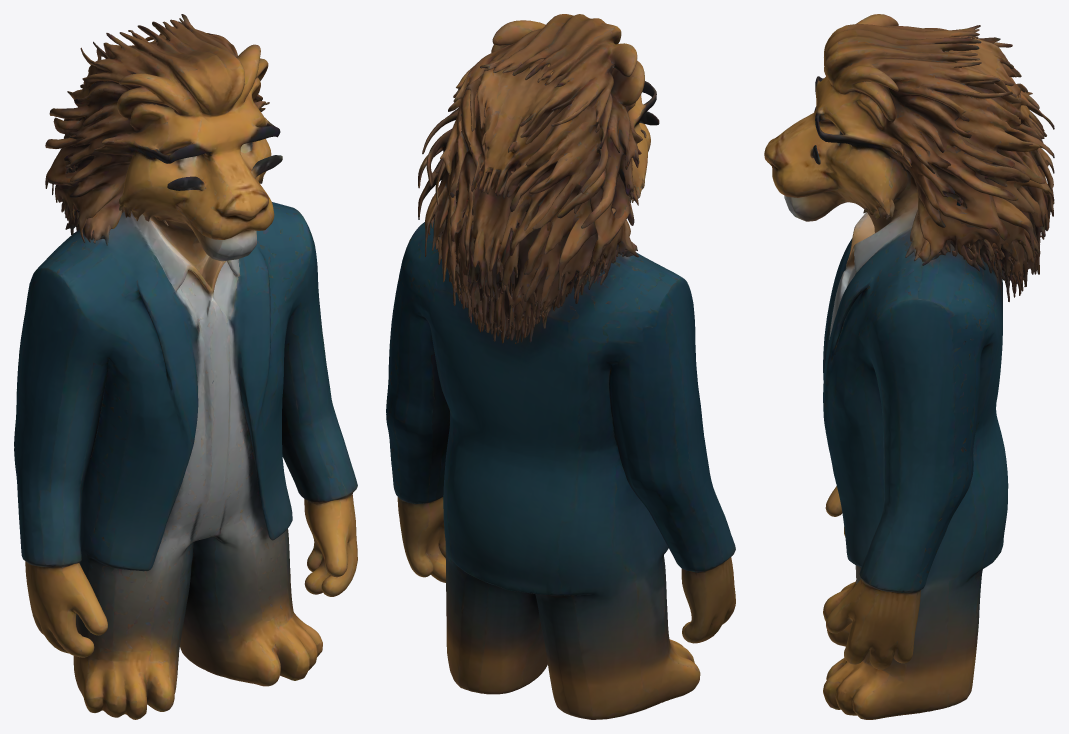
File: julius-3d-opt.glb
3 views of the same model, side by side, from view 1: azimuth 30°, elevation 25°; view 2: azimuth 150°, elevation 25°; view 3: azimuth 270°, elevation 25° (orthographic).
Visible parts, largest first — view 1: geometry_0; view 2: geometry_0; view 3: geometry_0.
Boxes of the visible parts, <box> form: geometry_0: <box>14,14,357,719</box>; geometry_0: <box>386,14,735,719</box>; geometry_0: <box>764,14,1054,719</box>.
Size of the model in its own units: 0.5381 by 1 by 0.413.
1 material, 1 textured.
